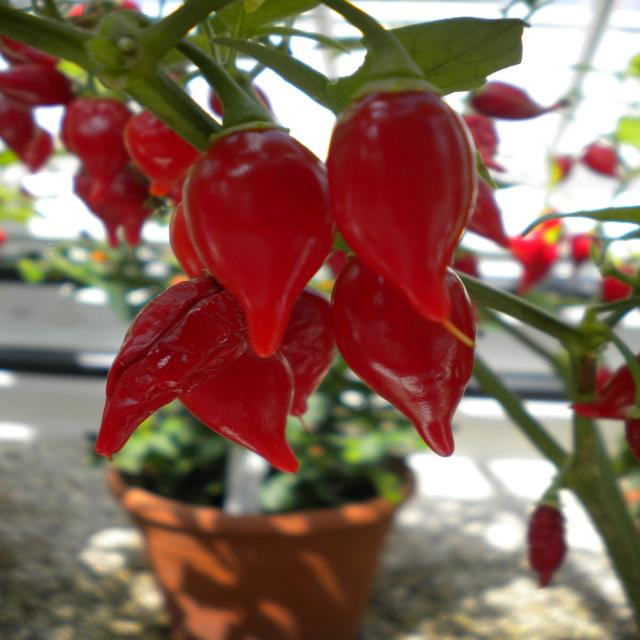chilli: (322, 63, 482, 331), (178, 105, 328, 358)
